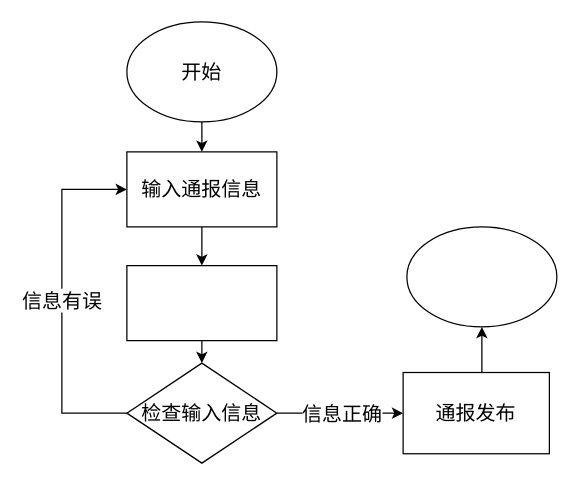
Some shapes in this 579 by 485 pixel diagram are drawn without their labels. Each missing label, with the centre of its shape:
"结束" goes at (x=481, y=276).
"选择二级单位" goes at (x=201, y=302).
